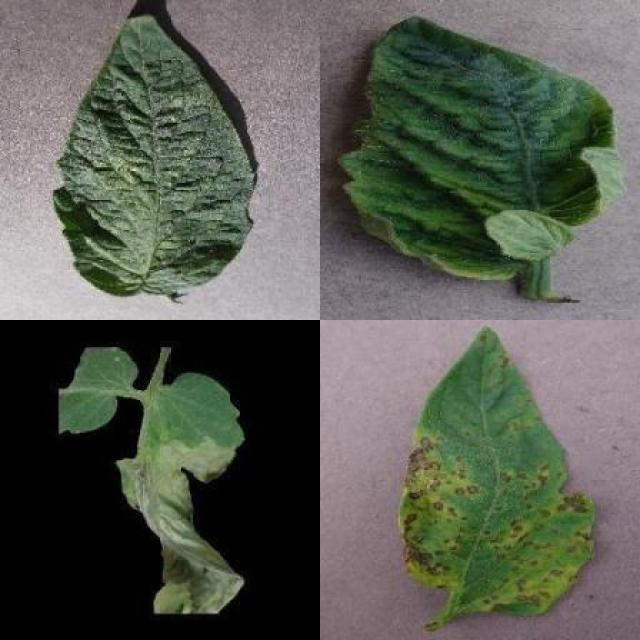Late Blight: (117, 371, 246, 614)
Septoria: (402, 328, 595, 618)
Spider Mites: (54, 10, 255, 293)
Yellow Leaf Curl Virus: (336, 13, 624, 284)
